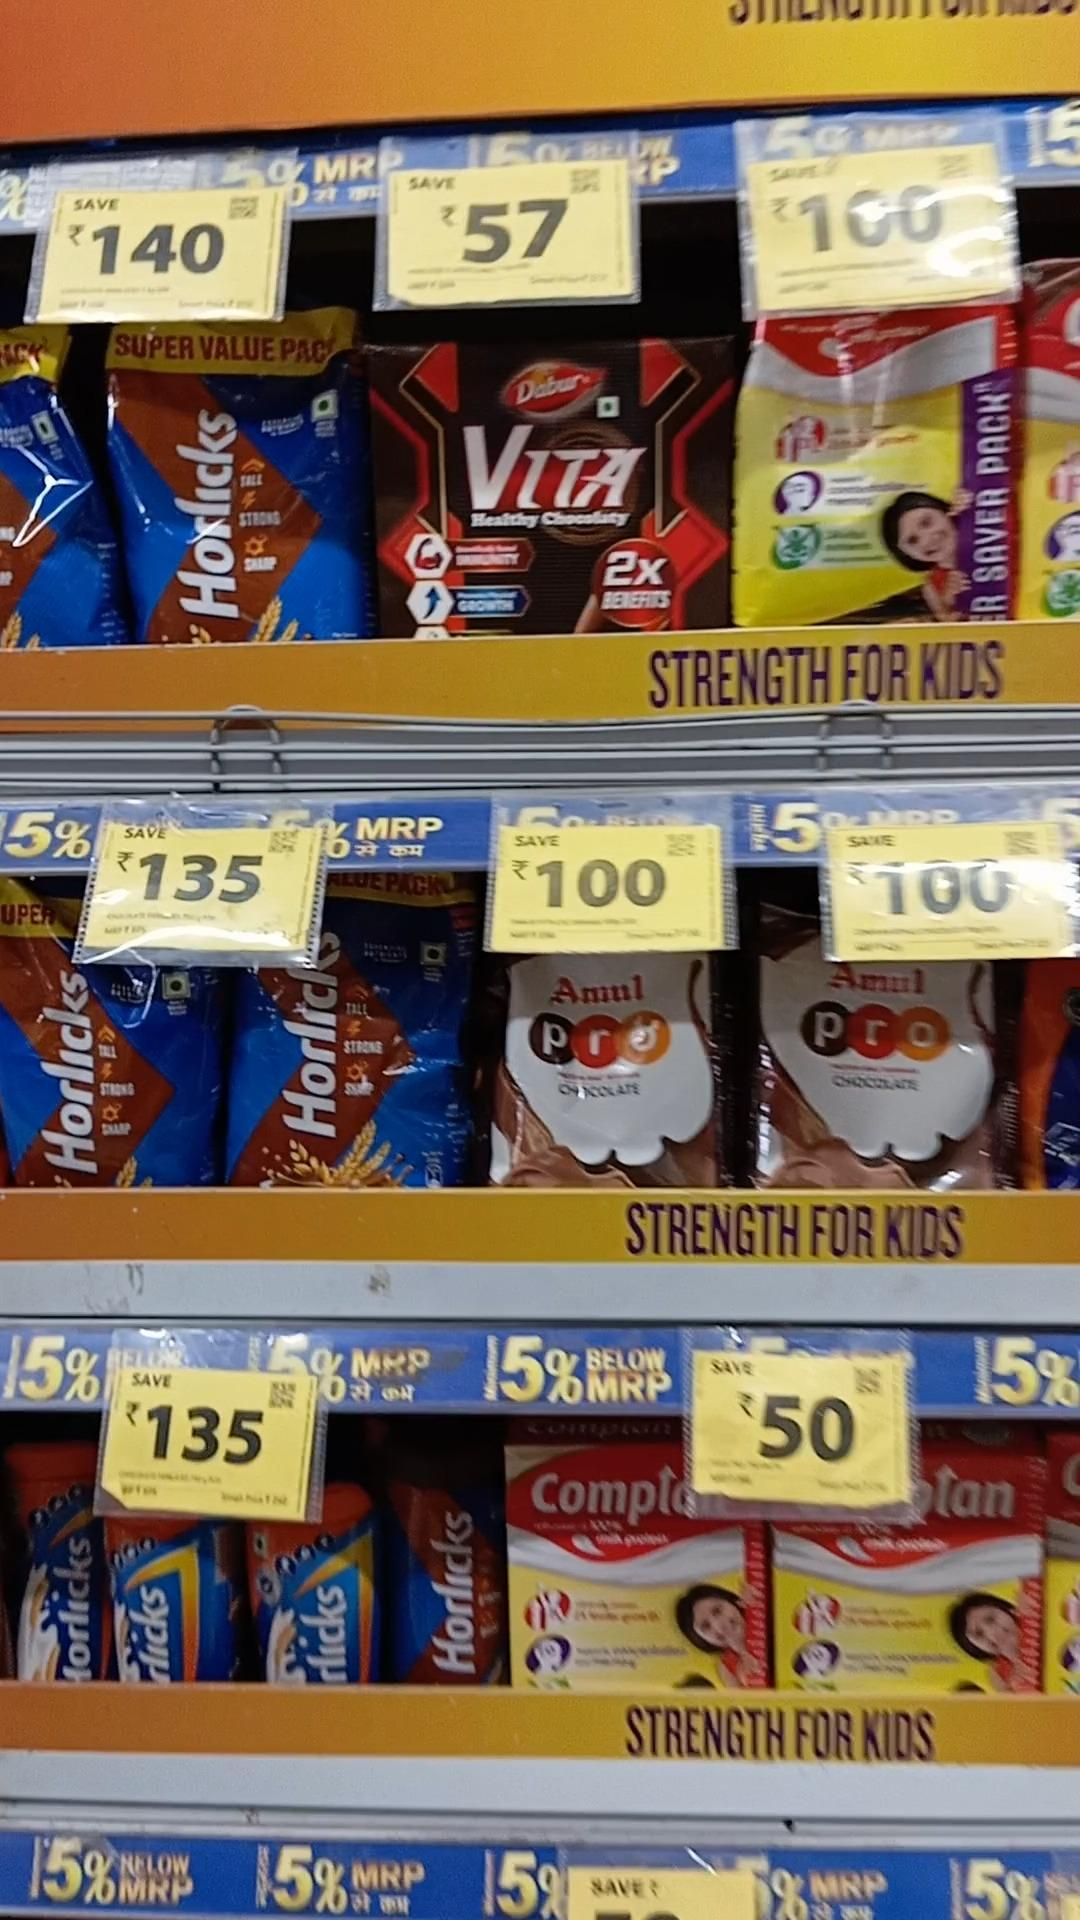HORLICK_CHOCOLATE_500_G_JAR: (388, 1445, 497, 1688)
HORLICK_CHOCOLATE_750_G_POUCH: (111, 319, 347, 646), (244, 882, 465, 1185)
HORLICK_CLASSIC_MALT_500_G_JAR: (5, 1440, 102, 1689)
